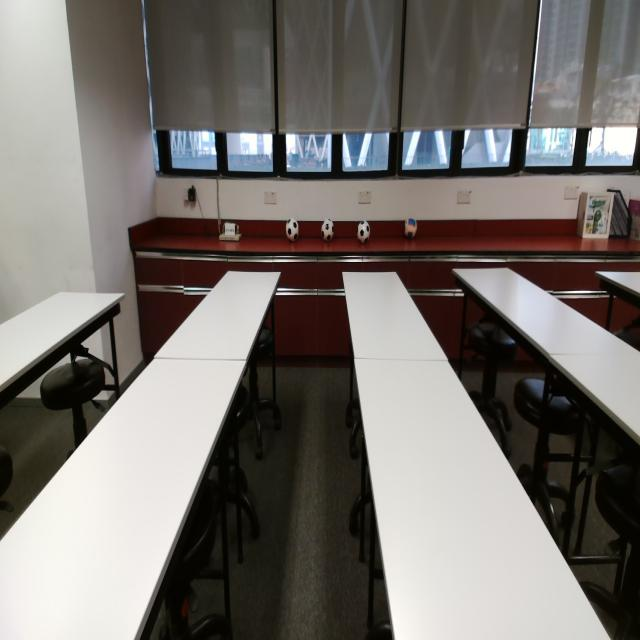ball: (286, 218, 299, 242), (404, 217, 416, 240), (357, 221, 370, 242), (322, 220, 334, 240)
